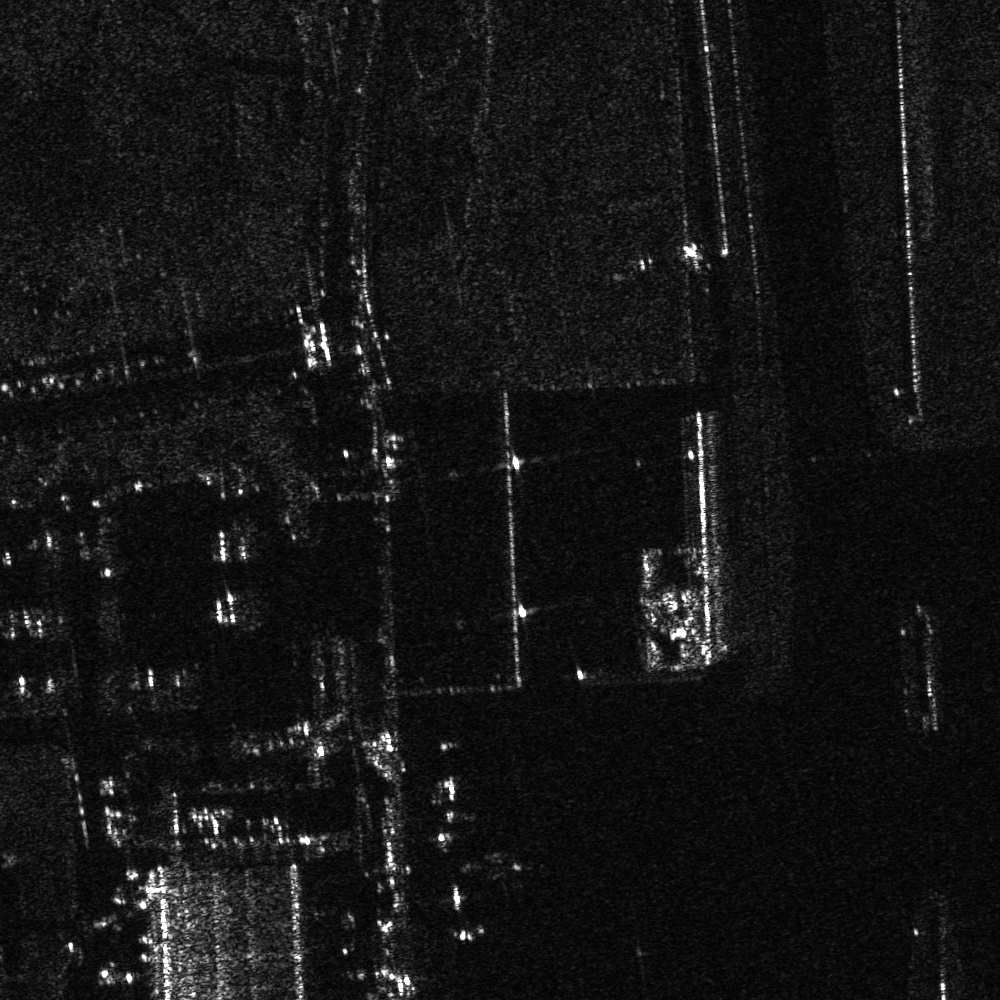Boeing737: (456, 847, 530, 889)
